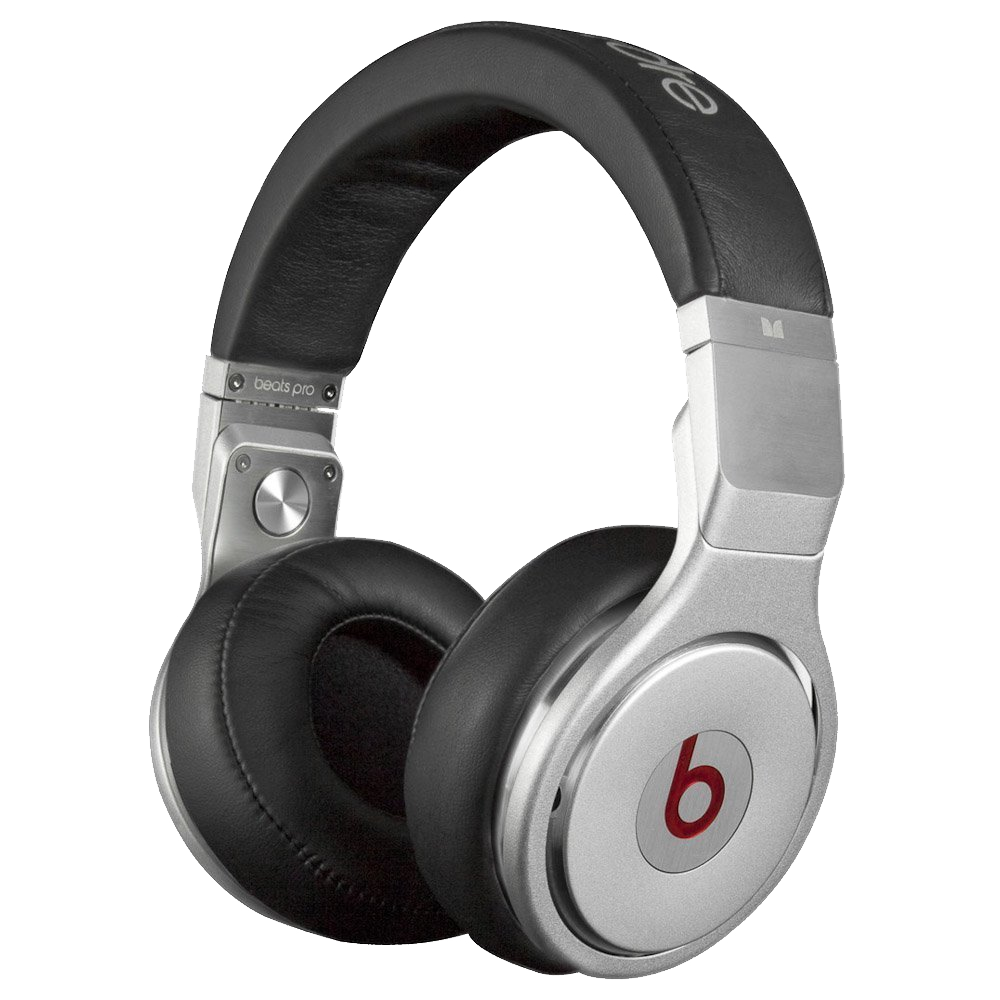headphone: (149, 13, 902, 966)
